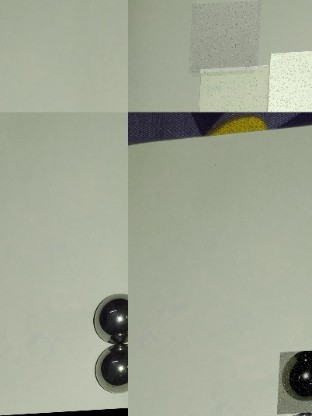ironball: (279, 352, 311, 415), (92, 343, 125, 395), (95, 293, 126, 344)
